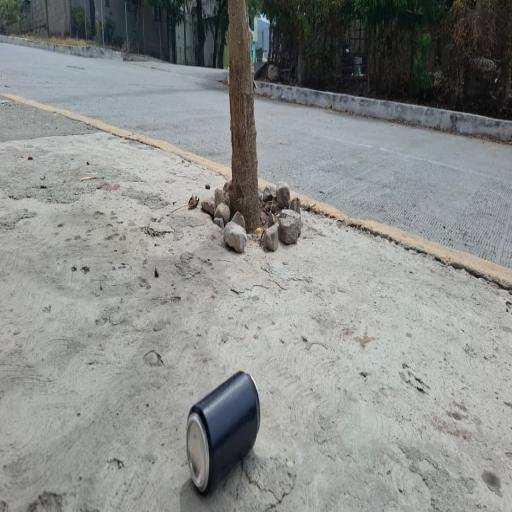LATA: (166, 367, 269, 505)
